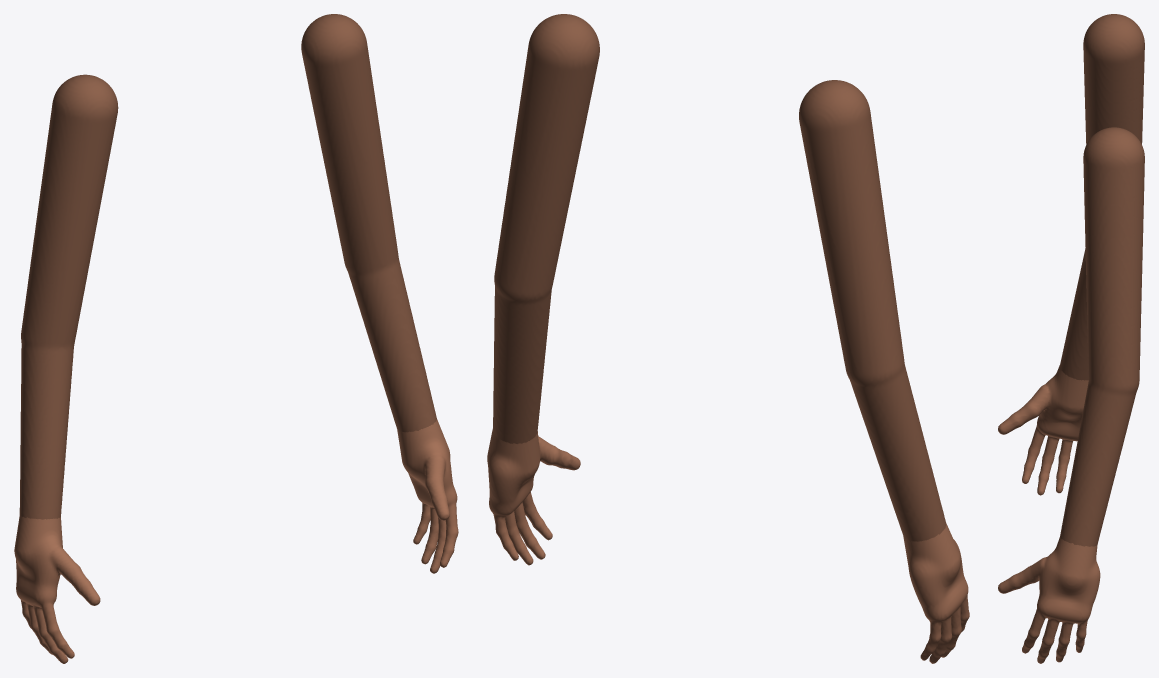
File: hands-tall.glb
3 renders of one model, left to right at view 1: azimuth 30°, elevation 25°; view 2: azimuth 150°, elevation 25°; view 3: azimuth 270°, elevation 25°, orthographic. The views are drawn at different scales.
Parts seen in each view (by area): view 1: arms, hands; view 2: arms, hands; view 3: arms, hands.
Part boxes in pixels (x1,y1,x2,y2): arms: (19,14,436,519); hands: (14,419,458,663); arms: (493,14,946,541); hands: (487,429,969,663); arms: (1060,14,1144,546); hands: (998,365,1100,663).
Bounding box in the file's own units: 0.6892 × 0.8321 × 0.219.
